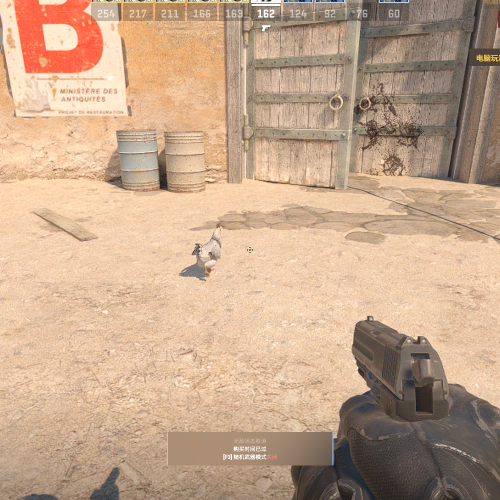chicken: (191, 222, 225, 278)
